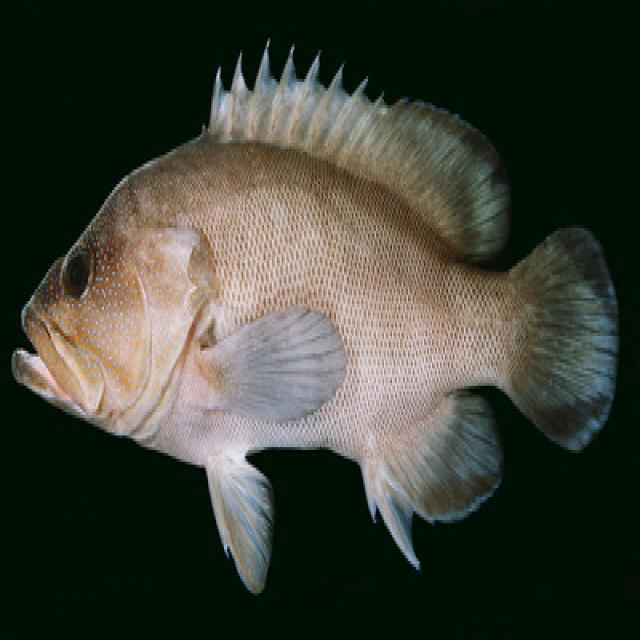ikan: (10, 35, 619, 596)
